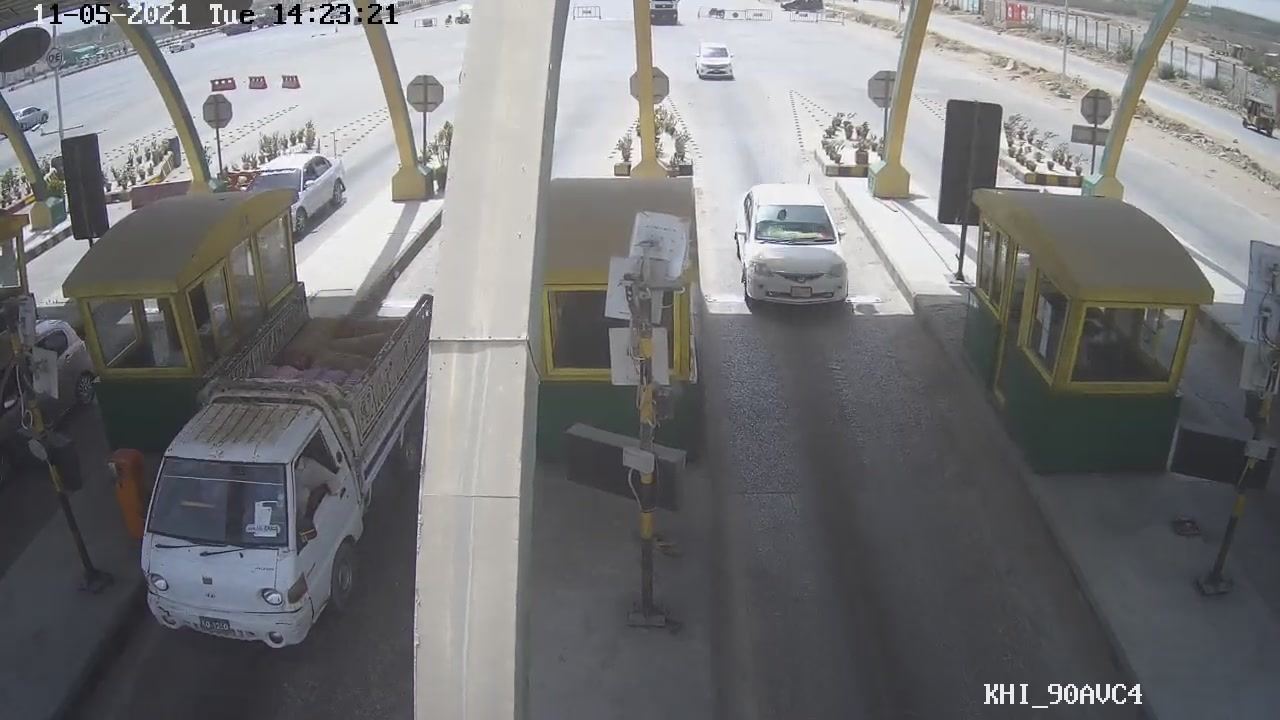F1: (731, 174, 854, 313)
